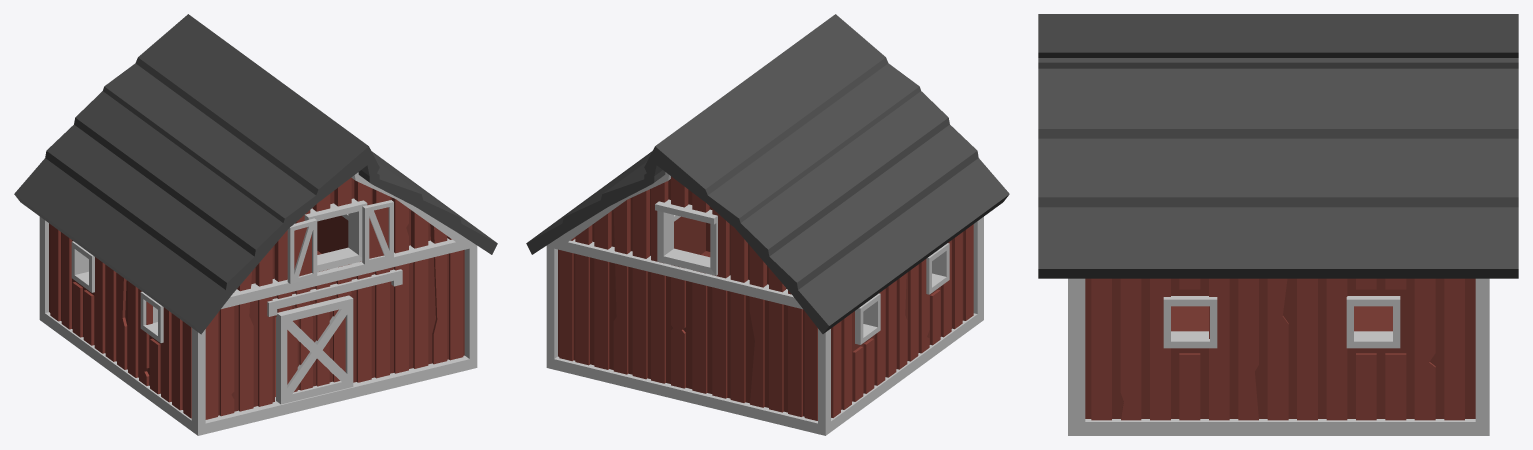
Rendered from SmallBarn.gltf.
The picture shows the model from 3 angles, left to right: view 1: azimuth 30°, elevation 25°; view 2: azimuth 150°, elevation 25°; view 3: azimuth 270°, elevation 25°; orthographic projection. The views are drawn at different scales.
Visible parts, largest first — view 1: Small_Barn_Cube.013, Small_Barn_Door_Cube.008, SmallBarn_Window_Cube.023, SmallBarn_Window2_Cube.022; view 2: Small_Barn_Cube.013; view 3: Small_Barn_Cube.013.
Part boxes in pixels (x1,y1,x2,y2): Small_Barn_Cube.013: (14, 14, 497, 435); Small_Barn_Door_Cube.008: (276, 295, 353, 404); SmallBarn_Window_Cube.023: (362, 200, 393, 264); SmallBarn_Window2_Cube.022: (287, 218, 317, 283); Small_Barn_Cube.013: (526, 14, 1009, 435); Small_Barn_Cube.013: (1038, 14, 1518, 435).
Size of the model in its own units: 6.08 by 4.96 by 6.27.
